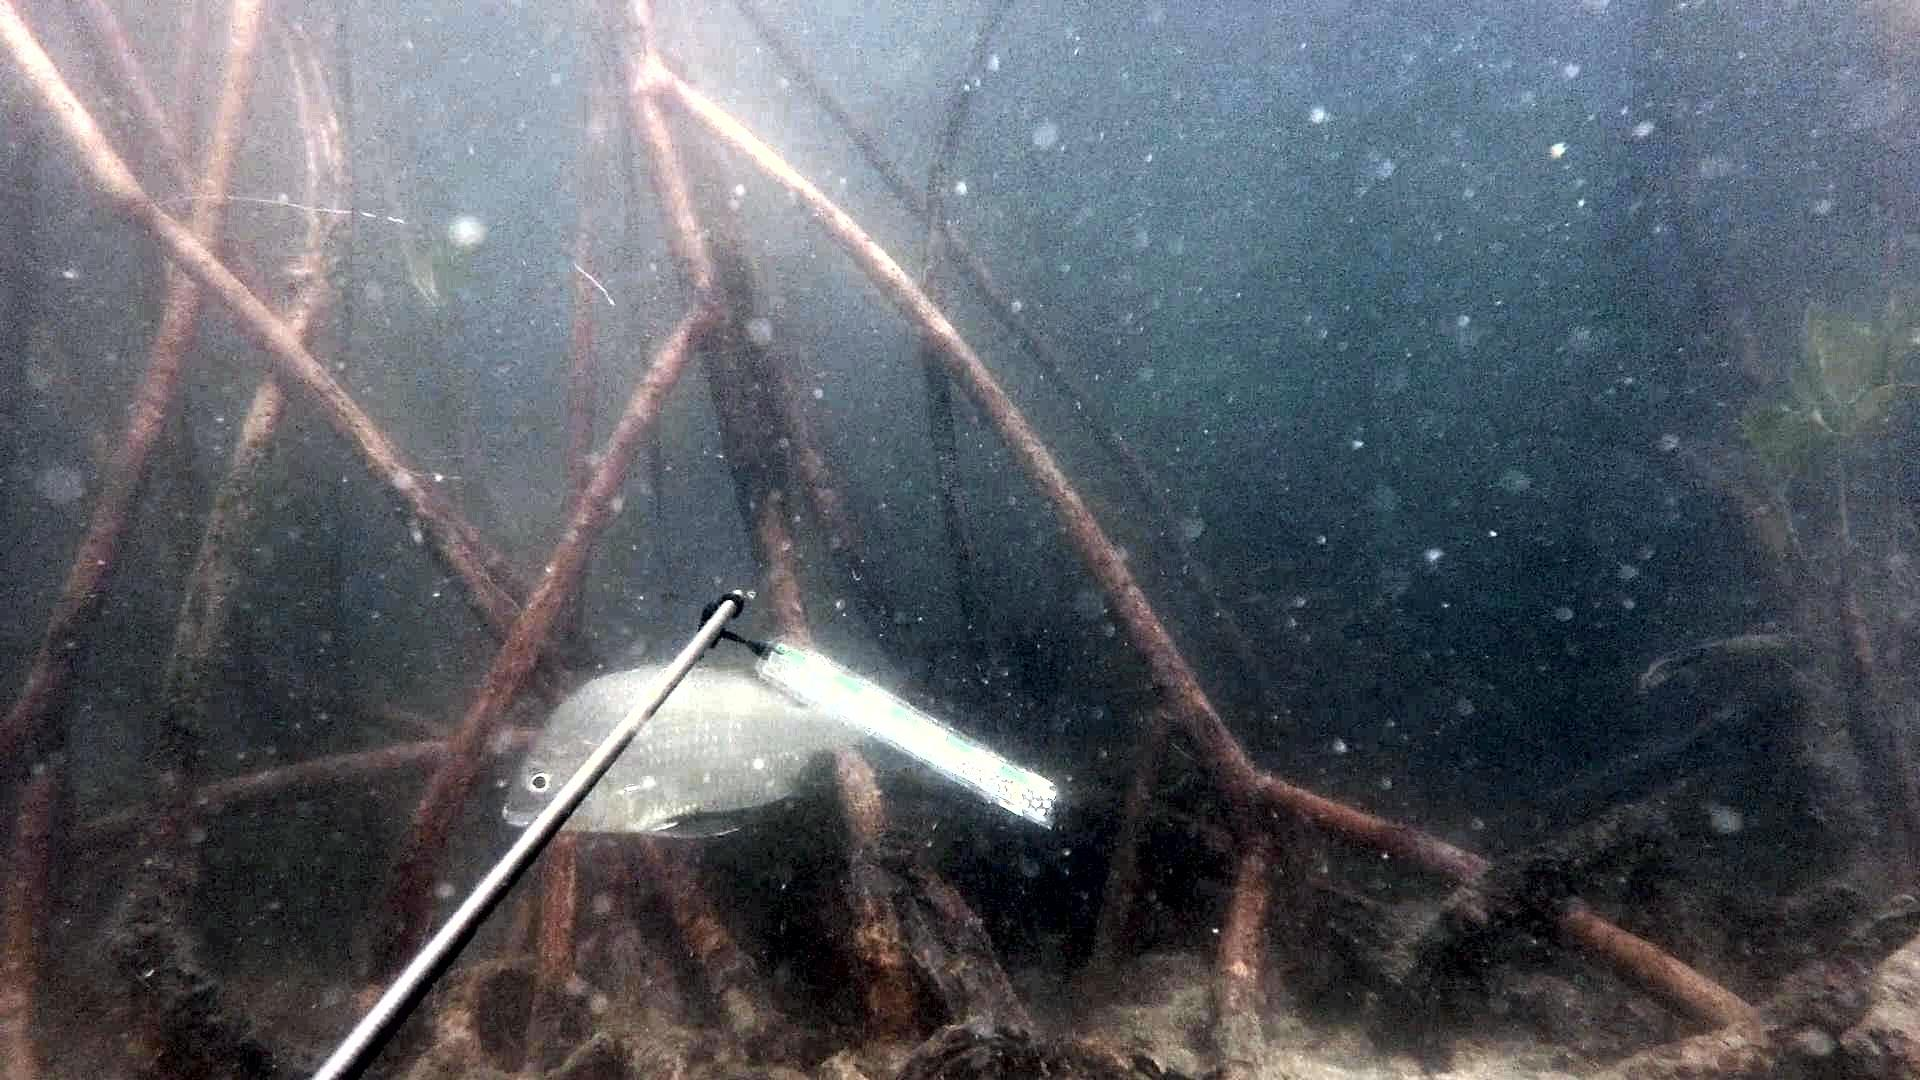acanthopagrus palmaris: (499, 651, 883, 848)
